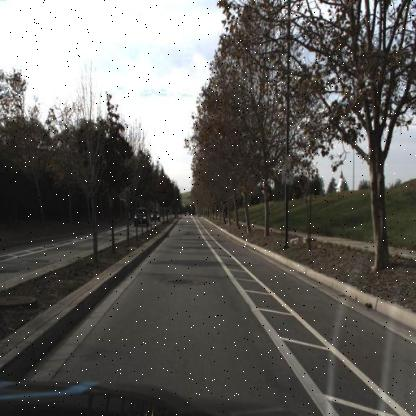car: (132, 204, 150, 225), (133, 206, 149, 228), (148, 208, 162, 222), (150, 210, 159, 222)
